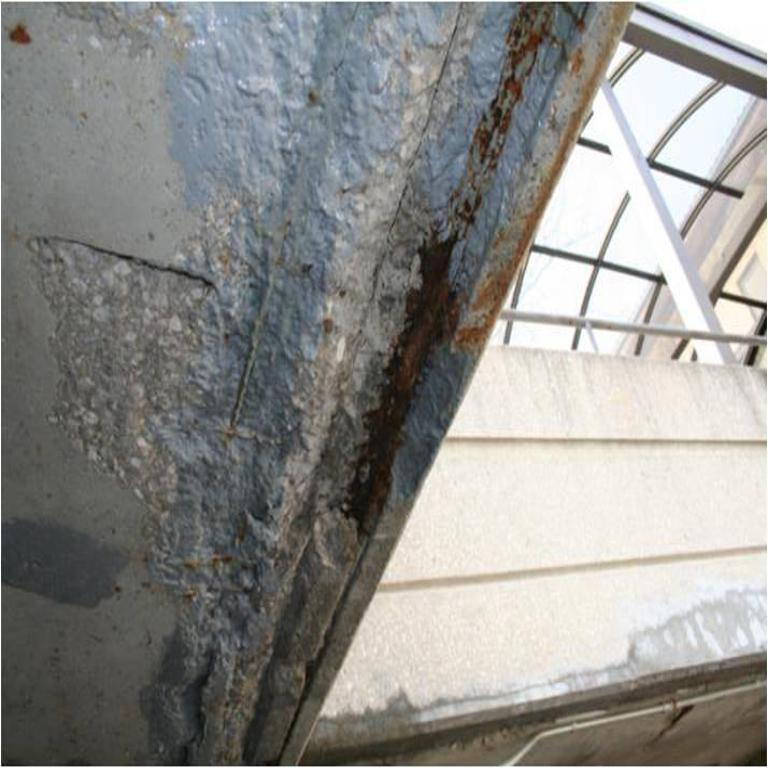spalling: (30, 4, 626, 764), (303, 590, 766, 765)
